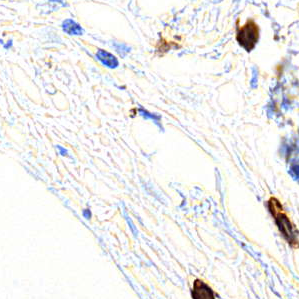Lymphocyte: (266, 197, 298, 247)
